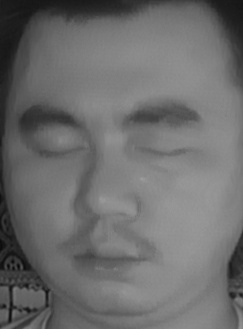blink: (27, 130, 86, 170), (137, 130, 192, 171)
mouth: (69, 229, 149, 286)
